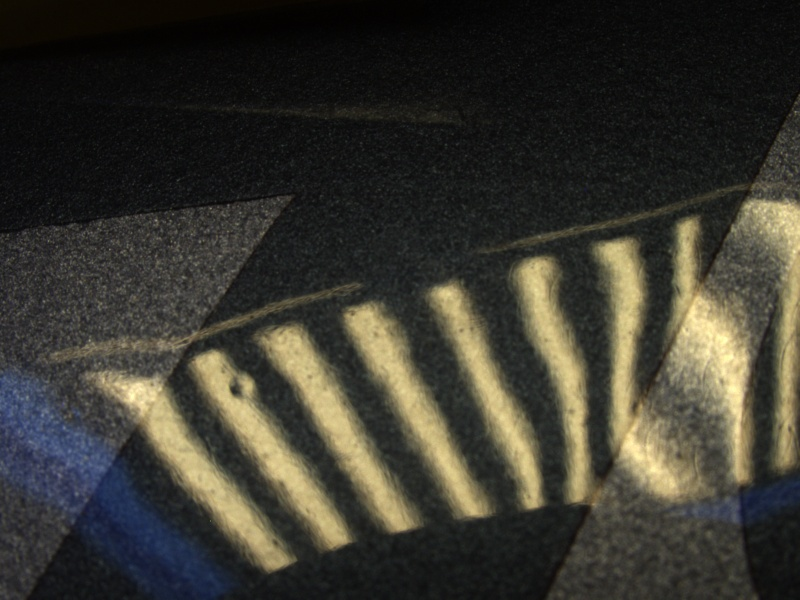bad: (225, 366, 262, 406)
